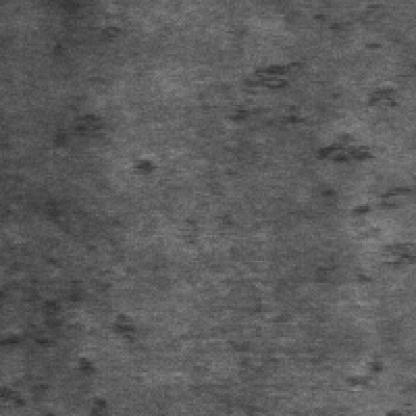rolled-in_scale: (310, 52, 414, 264), (0, 268, 137, 405), (220, 50, 308, 146)
